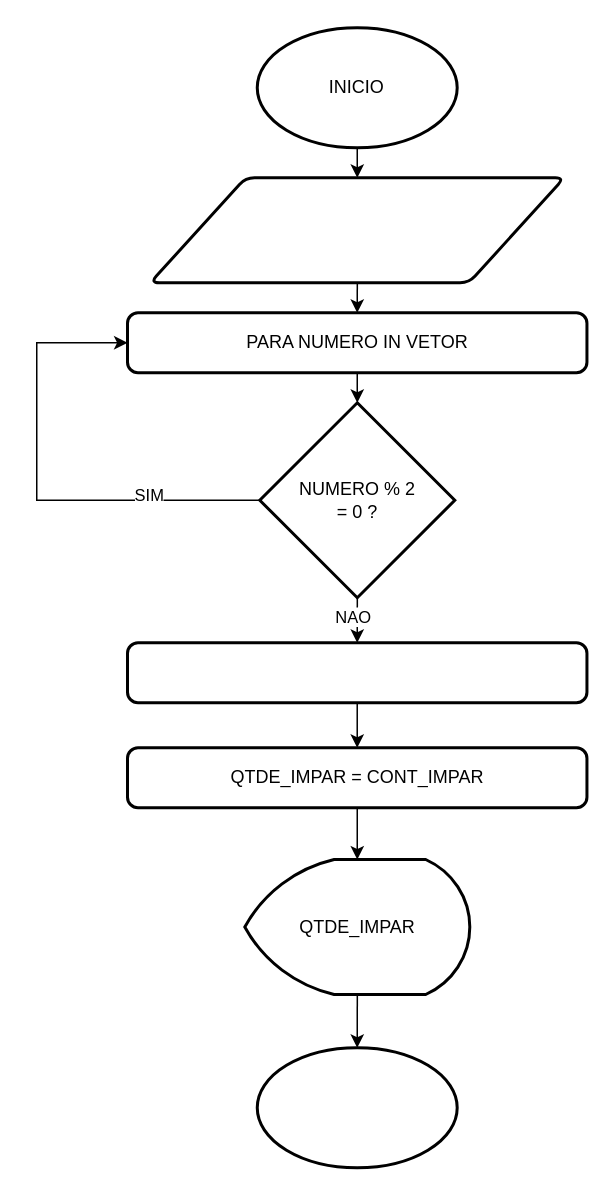
The diagram is 615 pixels wide and 1194 high, and some of its shapes have lost their labels. The box of each missing label's shape, as (x1, y1, x2, y2) in pixels:
CONT_IMPAR = 0 VETOR[10, 7, 8, 7, 6, 5, 3, 3, 2, 1] NUMERO QTDE_IMPAR: (148, 176, 565, 284)
CONT_IMPAR = CONT_IMPAR + 1: (125, 640, 588, 704)
FIM: (255, 1046, 458, 1168)
